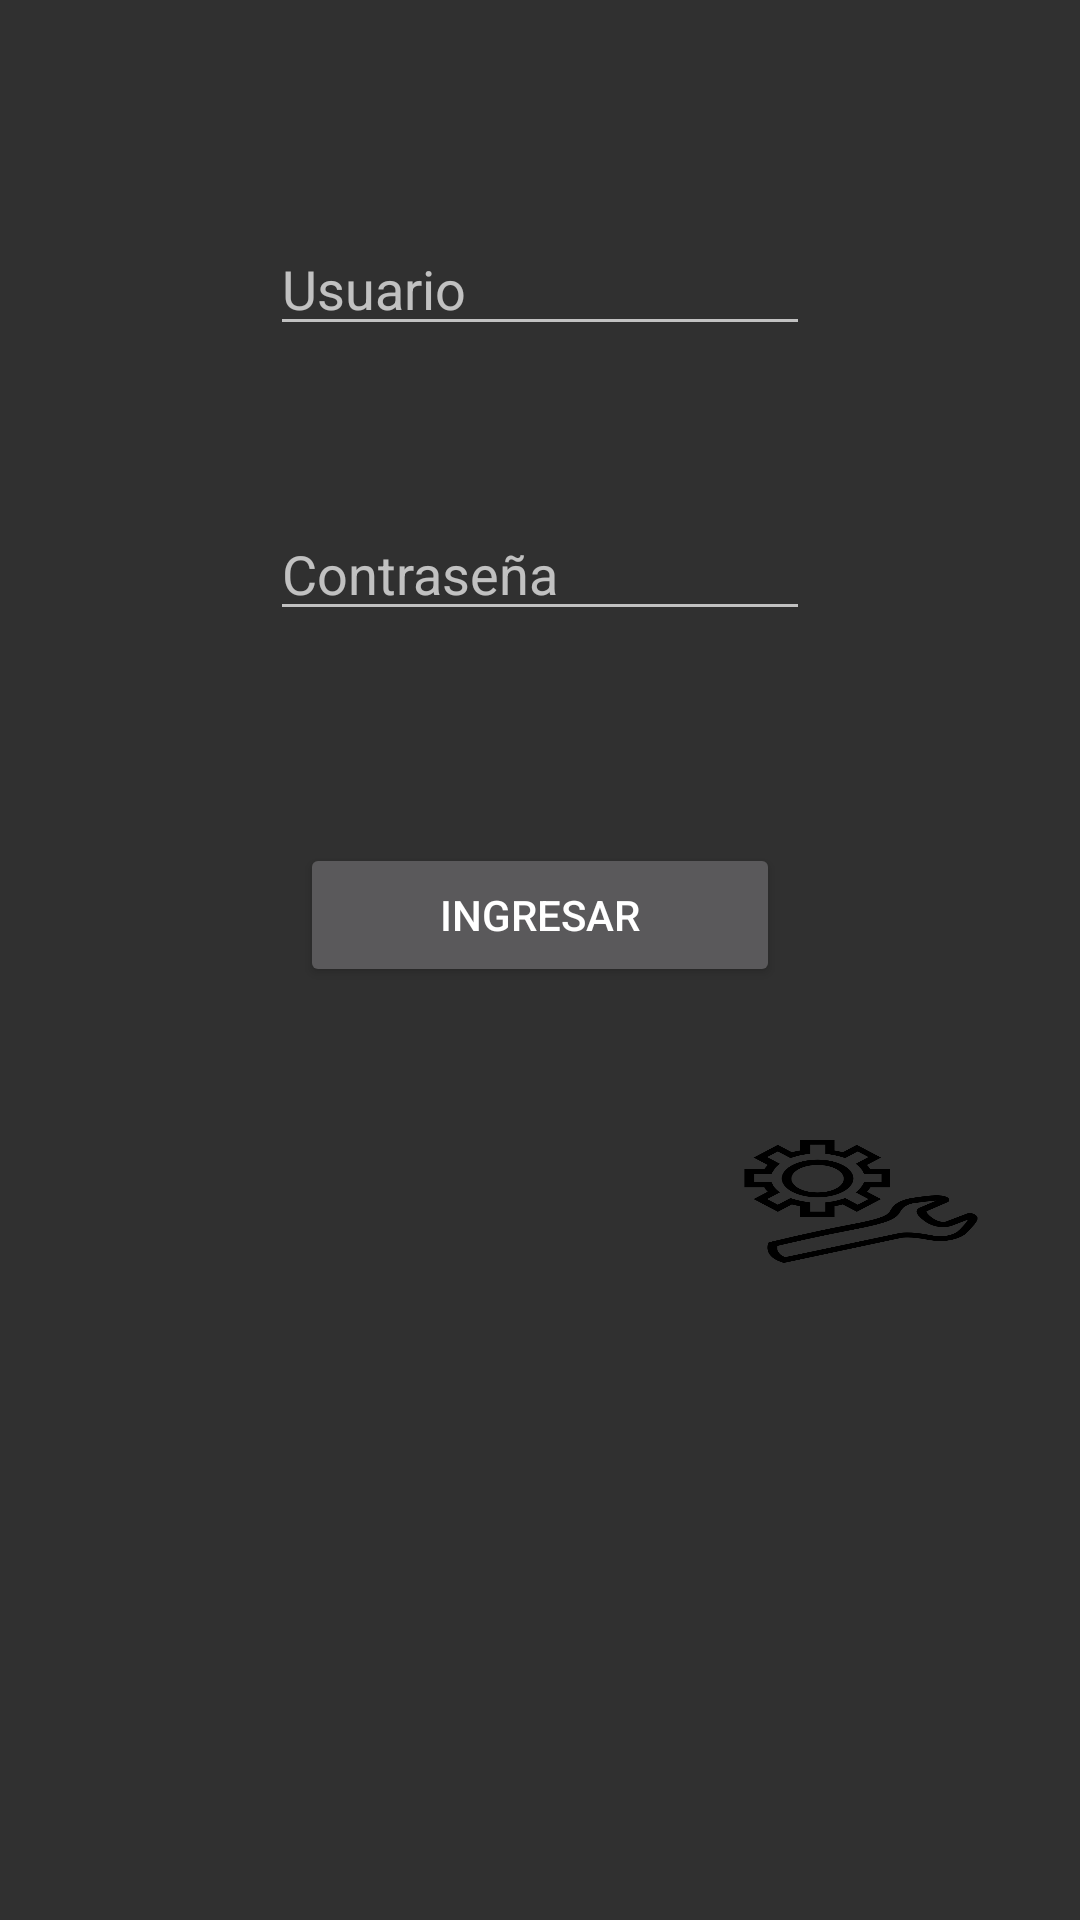

Named icons in this screenshot (1080px×1920px) and their centers, [x,y]:
configuracion: [861,1201]
